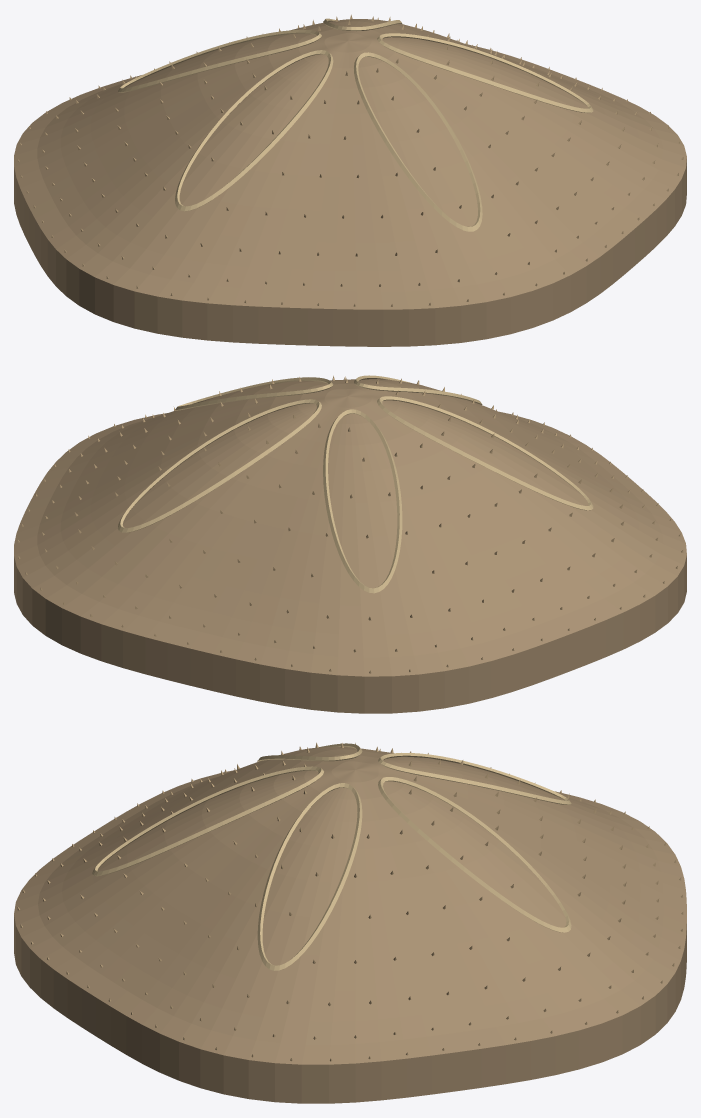
3 renders of one model, top to bottom at view 1: azimuth 30°, elevation 25°; view 2: azimuth 150°, elevation 25°; view 3: azimuth 270°, elevation 25°, orthographic. The views are drawn at different scales.
Visible parts, largest first — view 1: Continuous_domed_test_and_oral_dish, Five_ambulacral_petal_surface_bands, Restrained_short_living_spines; view 2: Continuous_domed_test_and_oral_dish, Five_ambulacral_petal_surface_bands, Restrained_short_living_spines; view 3: Continuous_domed_test_and_oral_dish, Five_ambulacral_petal_surface_bands, Restrained_short_living_spines.
Part boxes in pixels (x1,y1,x2,y2): Continuous_domed_test_and_oral_dish: (14,19,686,346); Five_ambulacral_petal_surface_bands: (118,18,593,231); Restrained_short_living_spines: (17,14,683,306); Continuous_domed_test_and_oral_dish: (14,379,686,713); Five_ambulacral_petal_surface_bands: (118,375,593,593); Restrained_short_living_spines: (18,375,683,673); Continuous_domed_test_and_oral_dish: (14,746,686,1103); Five_ambulacral_petal_surface_bands: (92,743,571,970); Restrained_short_living_spines: (17,742,683,1061).
Bounding box in the file's own units: 0.126 × 0.0369 × 0.1188.
